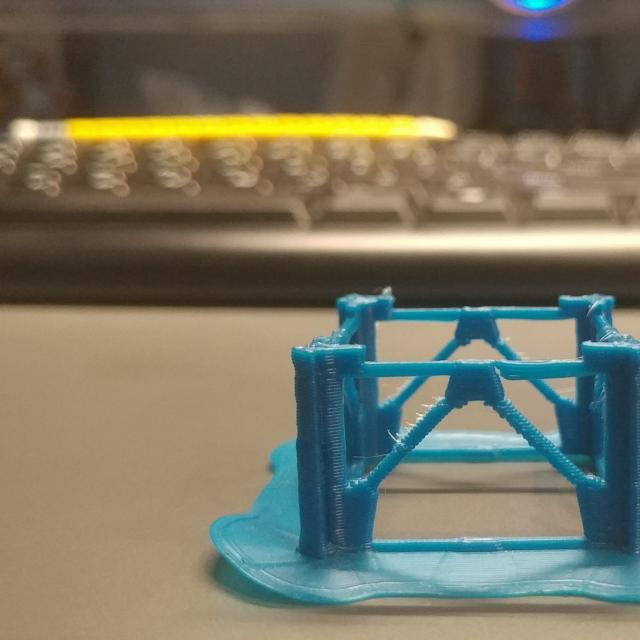Warping: (203, 522, 314, 608)
